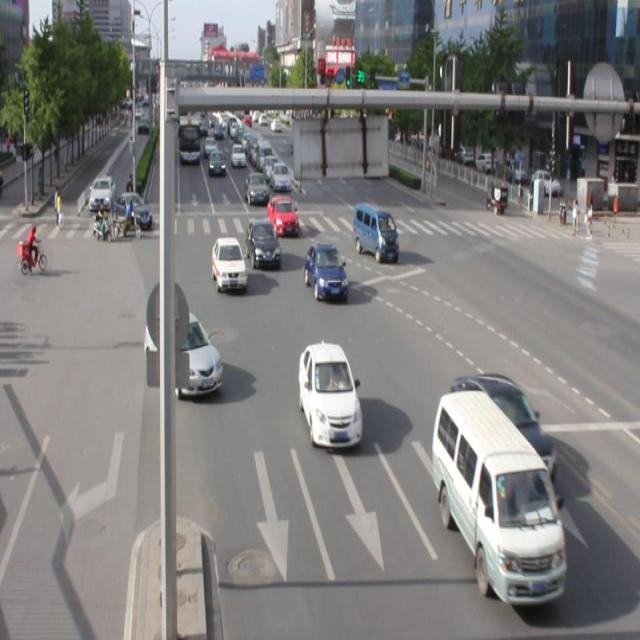car: (450, 371, 556, 466), (144, 306, 222, 400), (299, 340, 362, 447), (303, 239, 349, 299), (211, 234, 248, 290), (248, 217, 282, 269), (267, 192, 298, 235)
truck: (432, 388, 565, 598), (352, 200, 398, 257)
